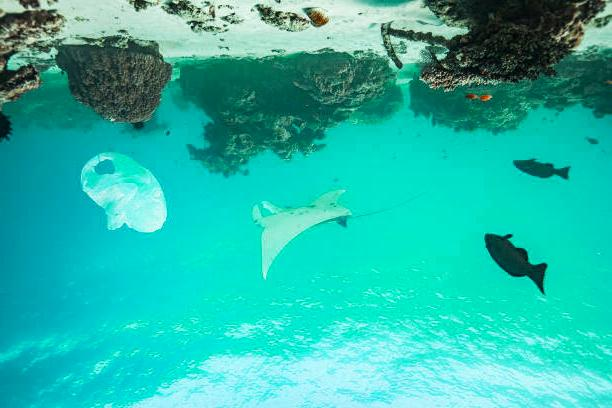Trash: (70, 149, 174, 236)
